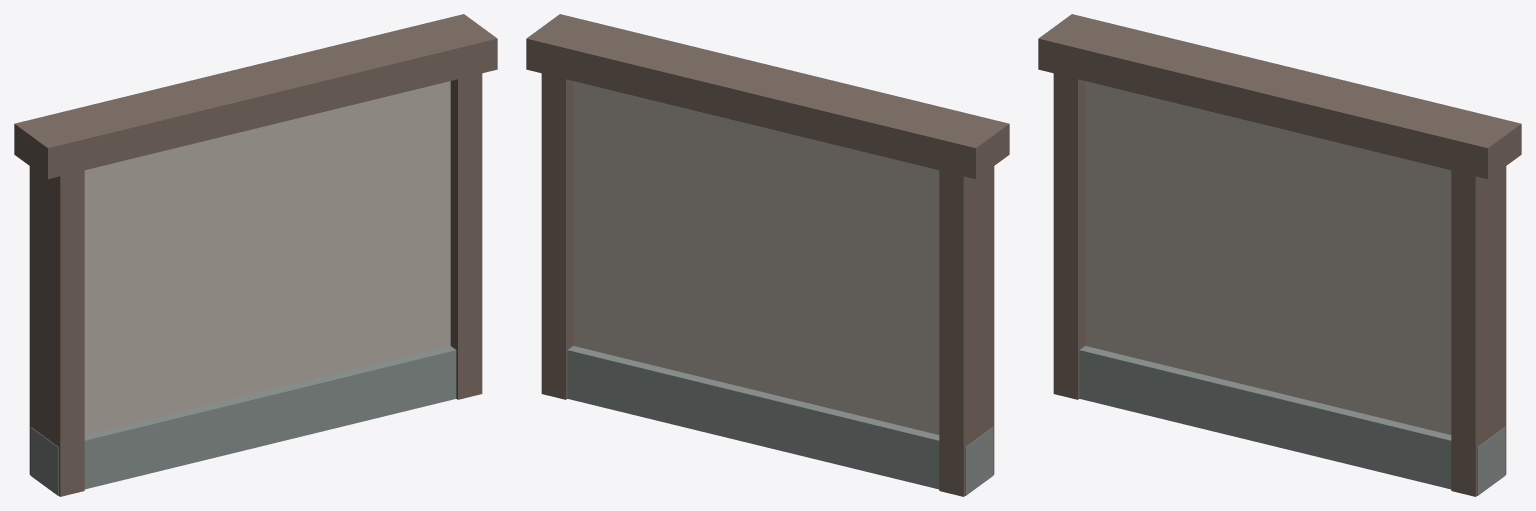
Rendered from parede_reboco_claro.glb.
The picture shows the model from 3 angles, left to right: view 1: azimuth 30°, elevation 25°; view 2: azimuth 150°, elevation 25°; view 3: azimuth 330°, elevation 25°; orthographic projection.
Parts seen in each view (by area): view 1: parede_reboco_claro_part_001, parede_reboco_claro_part_004, parede_reboco_claro_part_000, parede_reboco_claro_part_002, parede_reboco_claro_part_003; view 2: parede_reboco_claro_part_001, parede_reboco_claro_part_004, parede_reboco_claro_part_000, parede_reboco_claro_part_002, parede_reboco_claro_part_003; view 3: parede_reboco_claro_part_001, parede_reboco_claro_part_004, parede_reboco_claro_part_000, parede_reboco_claro_part_003, parede_reboco_claro_part_002.
Boxes of the visible parts, x1,y1,x2,y2 form: parede_reboco_claro_part_001: (84,81,450,434); parede_reboco_claro_part_004: (14,14,497,179); parede_reboco_claro_part_000: (30,346,456,495); parede_reboco_claro_part_002: (29,166,84,496); parede_reboco_claro_part_003: (450,73,482,399); parede_reboco_claro_part_001: (573,81,939,434); parede_reboco_claro_part_004: (526,14,1009,179); parede_reboco_claro_part_000: (567,346,993,495); parede_reboco_claro_part_002: (939,166,994,496); parede_reboco_claro_part_003: (541,73,573,399); parede_reboco_claro_part_001: (1085,81,1451,434); parede_reboco_claro_part_004: (1038,14,1521,179); parede_reboco_claro_part_000: (1079,346,1505,495); parede_reboco_claro_part_003: (1451,166,1506,496); parede_reboco_claro_part_002: (1053,73,1085,399).
Size of the model in its own units: 4.25 by 3.19 by 0.55.
